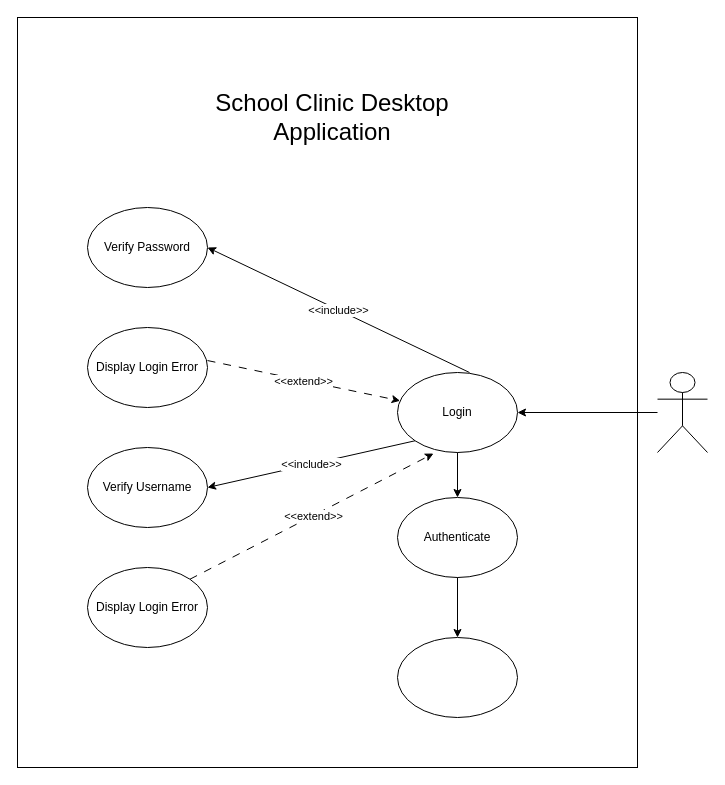
The diagram is 725 pixels wide and 785 high, and some of its shapes have lost their labels. Each missing label, with the centre of its shape:
Dashboard: point (457, 677)
Staff: point (682, 412)
